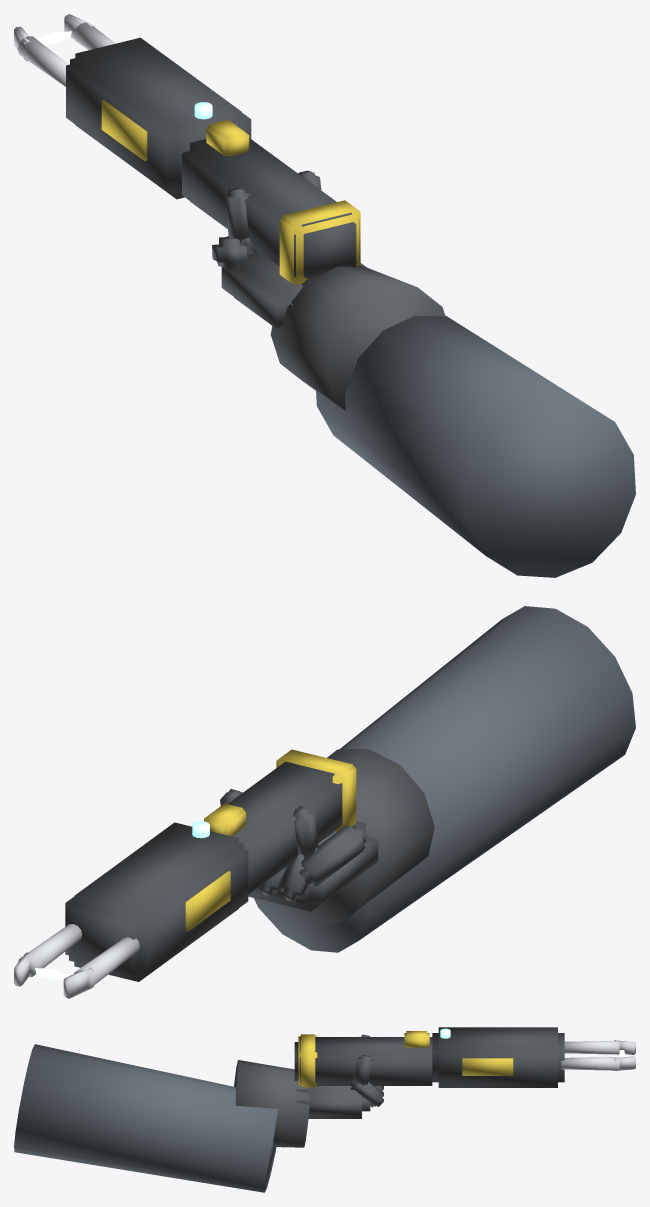
The model's file is vm_taser.glb.
3 renders of one model, top to bottom at view 1: azimuth 30°, elevation 25°; view 2: azimuth 150°, elevation 25°; view 3: azimuth 270°, elevation 25°, orthographic. The views are drawn at different scales.
Parts seen in each view (by area): view 1: CoatSleeve, CapacitorHousing, GloveWrist, GripHandle, Palm, HazardBandRear, HazardBandL, TriggerBtn, ProngBase_L, FingerDist_0, Thumb; view 2: CoatSleeve, CapacitorHousing, GloveWrist, GripHandle, Palm, Thumb, HazardBandRear, HazardBandL, ProngBase_L, ProngBase_R, FingerDist_0, TriggerBtn (+2 smaller); view 3: CoatSleeve, CapacitorHousing, GripHandle, GloveWrist, Palm, HazardBandRear, HazardBandL, ProngBase_R, ProngBase_L, FingerProx_3, FingerDist_3, TriggerBtn.
Boxes of the visible parts, bbox=[...] form: CoatSleeve: bbox=[316, 315, 635, 577]; CapacitorHousing: bbox=[66, 37, 251, 199]; GloveWrist: bbox=[270, 265, 445, 410]; GripHandle: bbox=[182, 138, 359, 278]; Palm: bbox=[221, 248, 366, 328]; HazardBandRear: bbox=[279, 200, 360, 284]; HazardBandL: bbox=[101, 100, 147, 161]; TriggerBtn: bbox=[206, 119, 249, 156]; ProngBase_L: bbox=[17, 36, 68, 86]; FingerDist_0: bbox=[224, 187, 249, 242]; Thumb: bbox=[212, 237, 247, 269]; CoatSleeve: bbox=[254, 606, 635, 952]; CapacitorHousing: bbox=[65, 822, 248, 981]; GloveWrist: bbox=[282, 749, 434, 923]; GripHandle: bbox=[228, 761, 342, 894]; Palm: bbox=[248, 821, 378, 911]; Thumb: bbox=[299, 825, 366, 886]; HazardBandRear: bbox=[276, 749, 356, 831]; HazardBandL: bbox=[185, 871, 230, 931]; ProngBase_L: bbox=[74, 937, 139, 990]; ProngBase_R: bbox=[18, 924, 82, 976]; FingerDist_0: bbox=[293, 806, 318, 857]; TriggerBtn: bbox=[204, 803, 245, 836]; CoatSleeve: bbox=[14, 1044, 278, 1192]; CapacitorHousing: bbox=[432, 1027, 564, 1087]; GripHandle: bbox=[294, 1037, 432, 1085]; GloveWrist: bbox=[234, 1060, 310, 1147]; Palm: bbox=[296, 1086, 370, 1118]; HazardBandRear: bbox=[298, 1034, 317, 1087]; HazardBandL: bbox=[462, 1058, 513, 1075]; ProngBase_R: bbox=[561, 1057, 619, 1070]; ProngBase_L: bbox=[564, 1041, 619, 1054]; FingerProx_3: bbox=[350, 1079, 383, 1107]; FingerDist_3: bbox=[353, 1054, 372, 1085]; TriggerBtn: bbox=[404, 1031, 429, 1047].
Bounding box in the file's own units: 0.1281 × 0.1523 × 0.5879.
